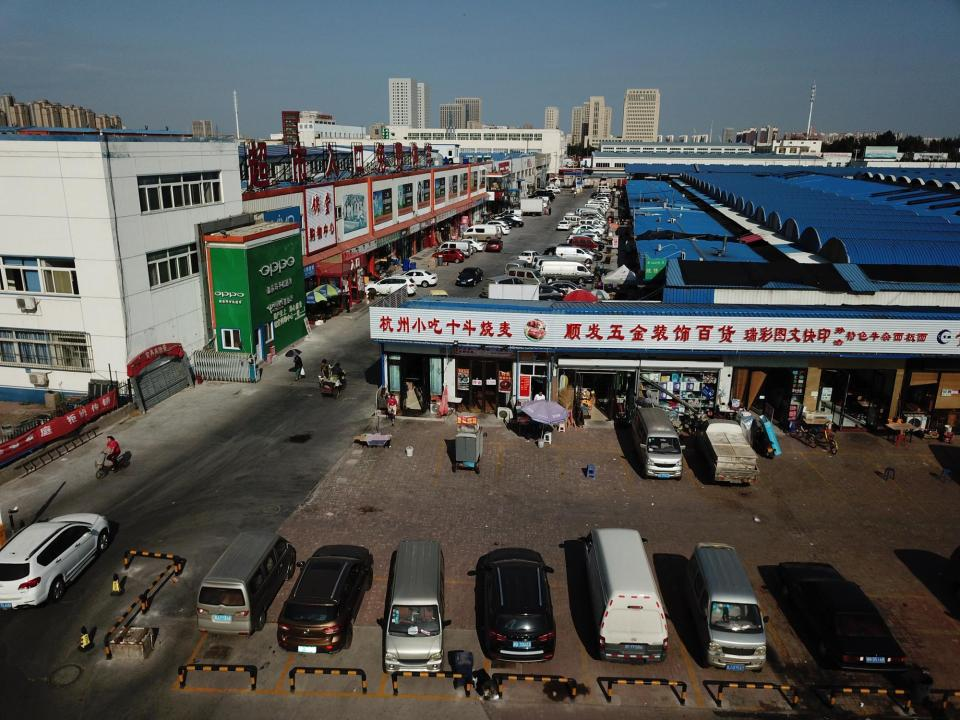car: (774, 559, 915, 674), (276, 545, 375, 654), (2, 511, 109, 610), (467, 549, 557, 663), (362, 275, 418, 295), (537, 280, 592, 296), (393, 269, 438, 287), (524, 284, 566, 302), (564, 246, 603, 261), (456, 266, 483, 286), (544, 243, 584, 256), (431, 248, 465, 263), (568, 238, 604, 251), (428, 290, 451, 309), (451, 239, 484, 252), (438, 243, 474, 254), (476, 220, 507, 232), (517, 250, 542, 264), (566, 234, 597, 245), (492, 217, 524, 227), (574, 223, 606, 233), (482, 219, 513, 229), (573, 225, 604, 235), (580, 216, 608, 226), (570, 232, 601, 241), (494, 214, 524, 223), (485, 238, 503, 252), (484, 225, 510, 234), (492, 213, 520, 221), (556, 220, 572, 231), (587, 202, 609, 210), (534, 190, 556, 197), (588, 197, 610, 204), (576, 229, 593, 238), (528, 200, 547, 208), (590, 200, 610, 207), (590, 196, 611, 202), (591, 191, 608, 198)
truck: (697, 419, 760, 484), (510, 198, 543, 217), (584, 178, 594, 188)
van: (578, 527, 670, 664), (194, 531, 297, 636), (688, 542, 770, 672), (380, 540, 452, 673), (632, 407, 686, 481), (539, 259, 594, 284), (482, 275, 526, 298), (508, 266, 546, 287), (554, 246, 594, 264), (462, 224, 498, 242), (436, 240, 472, 257), (534, 257, 570, 272), (503, 260, 530, 277), (531, 255, 563, 269), (571, 236, 599, 252), (575, 207, 602, 223), (477, 226, 502, 239), (577, 218, 604, 230), (578, 209, 602, 221), (581, 212, 606, 223), (528, 191, 554, 201), (582, 210, 604, 221), (498, 210, 522, 220), (563, 215, 583, 227), (584, 203, 608, 213), (530, 196, 550, 205), (586, 205, 606, 214), (588, 201, 606, 211), (586, 206, 605, 215), (593, 192, 610, 200), (597, 186, 612, 194), (546, 186, 560, 193), (566, 211, 575, 221), (555, 180, 561, 188)
